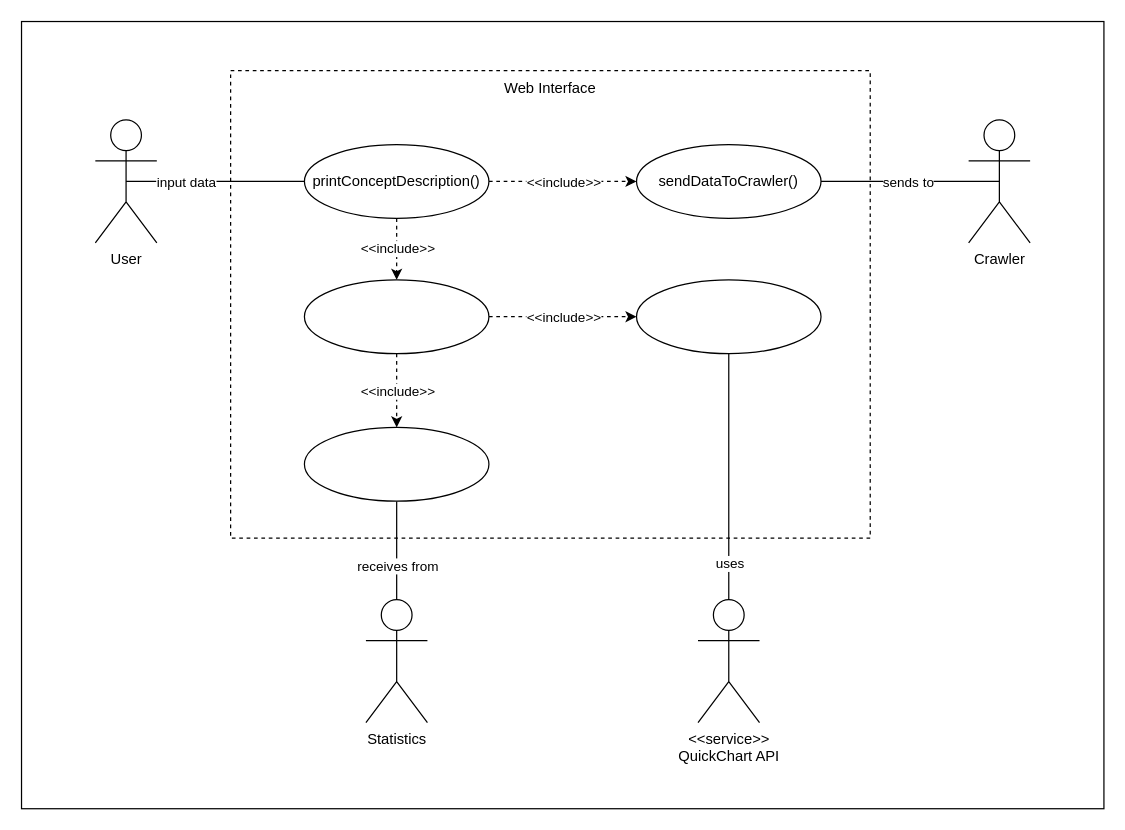
Image size: 1125x830. Some labels were removed from this diagram. Each missing label, with the box of its shape:
generateCharts(): (635, 279, 821, 354)
getData(): (303, 279, 489, 354)
getDataFromStatistics(): (303, 426, 489, 501)
